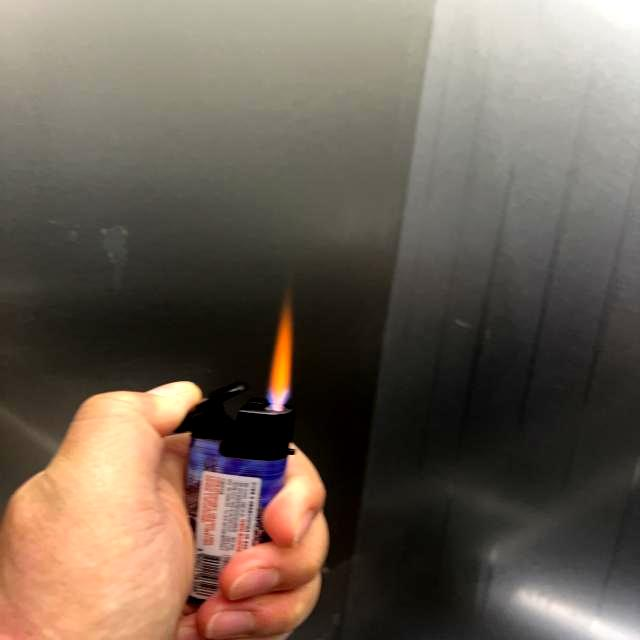fire: (262, 296, 294, 404)
